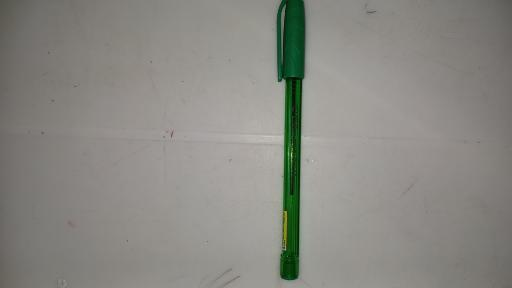pen: (274, 1, 307, 282)
